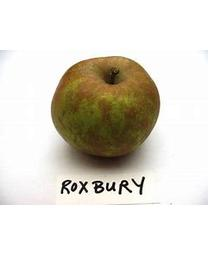apple: (49, 55, 159, 158)
